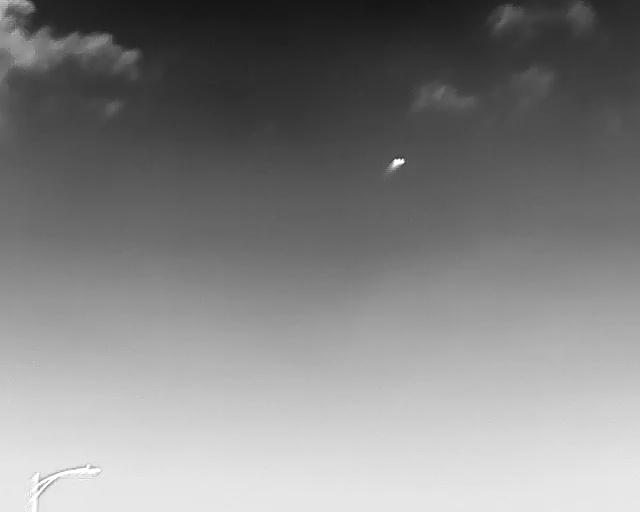fpv-drone: (384, 157, 405, 176)
